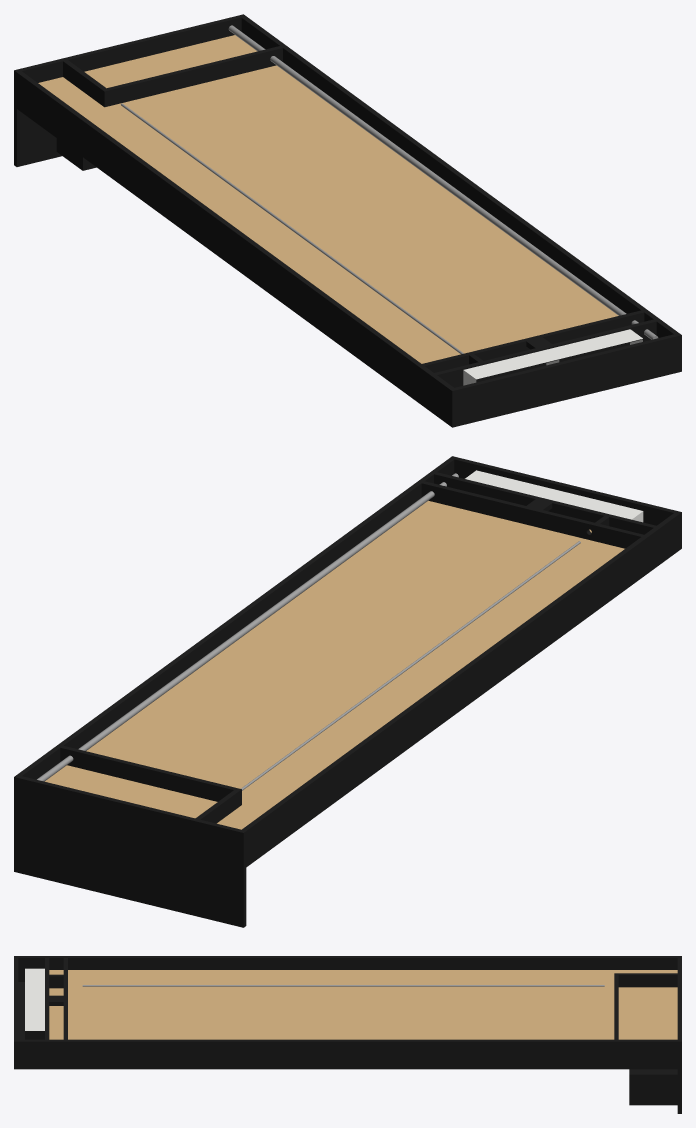
File: Plateforme.obj
3 renders of one model, top to bottom at view 1: azimuth 30°, elevation 25°; view 2: azimuth 150°, elevation 25°; view 3: azimuth 270°, elevation 25°, orthographic. The views are drawn at different scales.
Parts seen in each view (by area): view 1: Corps32, Corps15, Corps17, Corps16, Corps1, Corps24, Corps31, Corps26, Corps33, Corps25; view 2: Corps32, Corps1, Corps15, Corps17, Corps16, Corps26, Corps31, Corps24, Corps33, Corps25; view 3: Corps32, Corps16, Corps15, Corps17, Corps1, Corps33, Corps25, Corps26, Corps24.
Part boxes in pixels (left/top/right/bottom): Corps32: left=38, top=35, right=618, bottom=363; Corps15: left=17, top=71, right=433, bottom=410; Corps17: left=429, top=318, right=681, bottom=427; Corps16: left=241, top=16, right=658, bottom=321; Corps1: left=14, top=14, right=245, bottom=168; Corps24: left=101, top=46, right=282, bottom=107; Corps31: left=228, top=25, right=658, bottom=339; Corps26: left=422, top=310, right=644, bottom=372; Corps33: left=121, top=103, right=463, bottom=354; Corps25: left=63, top=60, right=105, bottom=104; Corps32: left=45, top=500, right=624, bottom=829; Corps1: left=14, top=775, right=246, bottom=927; Corps15: left=242, top=528, right=658, bottom=867; Corps17: left=430, top=456, right=681, bottom=564; Corps16: left=17, top=473, right=433, bottom=779; Corps26: left=421, top=481, right=643, bottom=548; Corps31: left=37, top=473, right=458, bottom=781; Corps24: left=60, top=745, right=241, bottom=806; Corps33: left=241, top=541, right=580, bottom=790; Corps25: left=195, top=790, right=238, bottom=823; Corps32: left=49, top=970, right=677, bottom=1039; Corps16: left=49, top=1039, right=677, bottom=1069; Corps15: left=49, top=956, right=677, bottom=969; Corps17: left=14, top=956, right=49, bottom=1069; Corps1: left=629, top=956, right=681, bottom=1113; Corps33: left=82, top=985, right=604, bottom=986; Corps25: left=618, top=973, right=677, bottom=987; Corps26: left=63, top=958, right=67, bottom=1039; Corps24: left=614, top=973, right=618, bottom=1039.
Bounding box in the file's own units: 836 × 330 × 2764.
